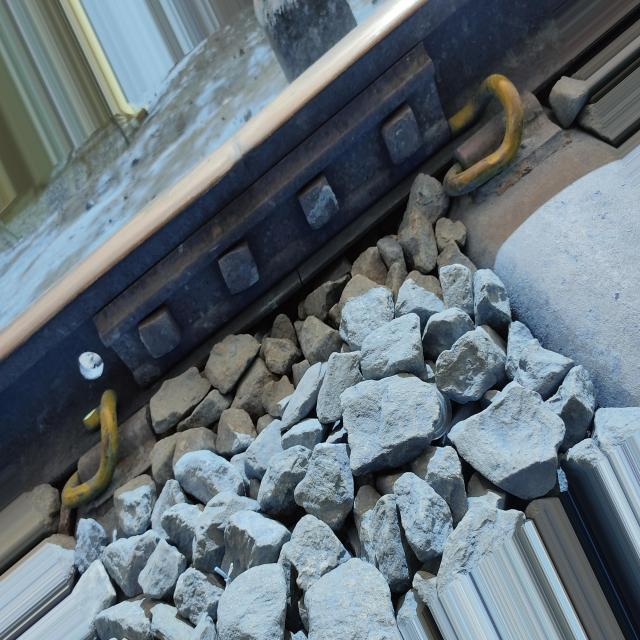Good Fasteners: (443, 74, 564, 197), (62, 390, 155, 508)
Good Joint: (98, 43, 454, 395)
